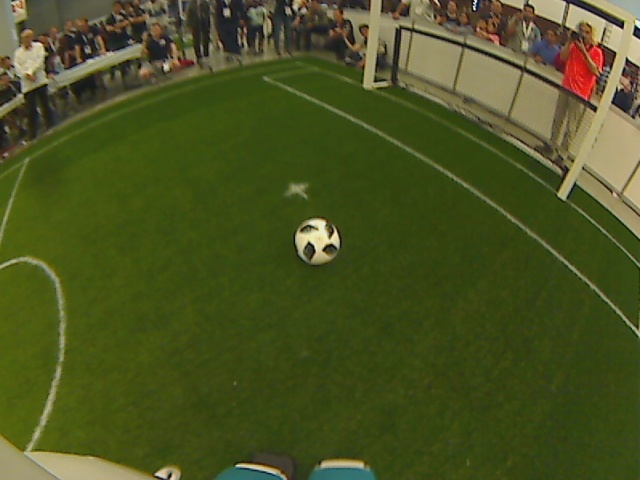ball: (292, 216, 342, 266)
